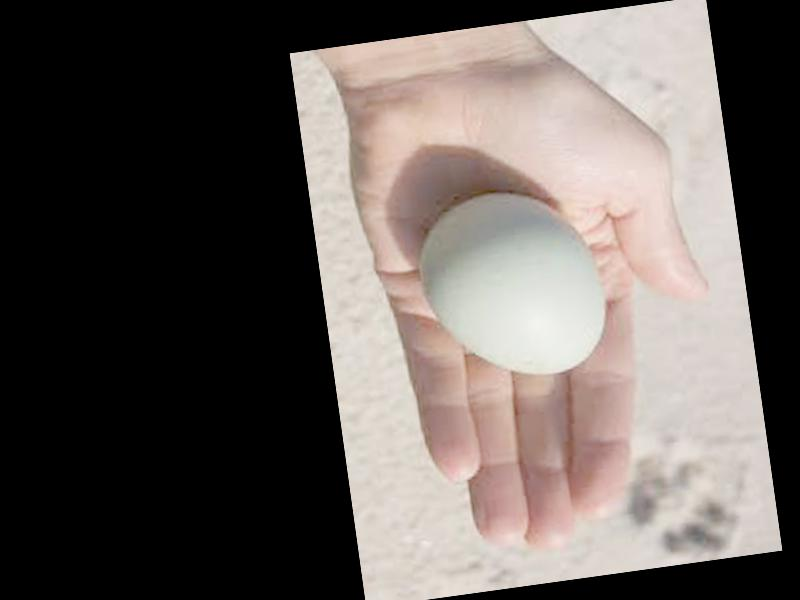Eggs: (413, 184, 612, 391)
